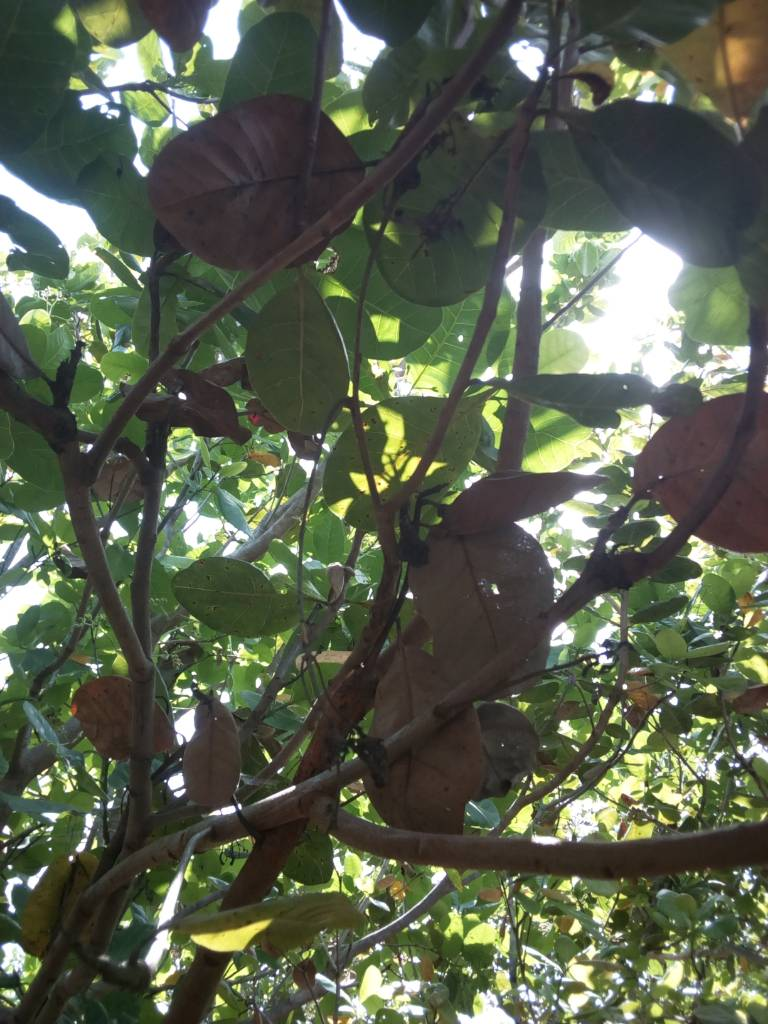Dessèchement des bourgeons: (384, 478, 479, 576)
